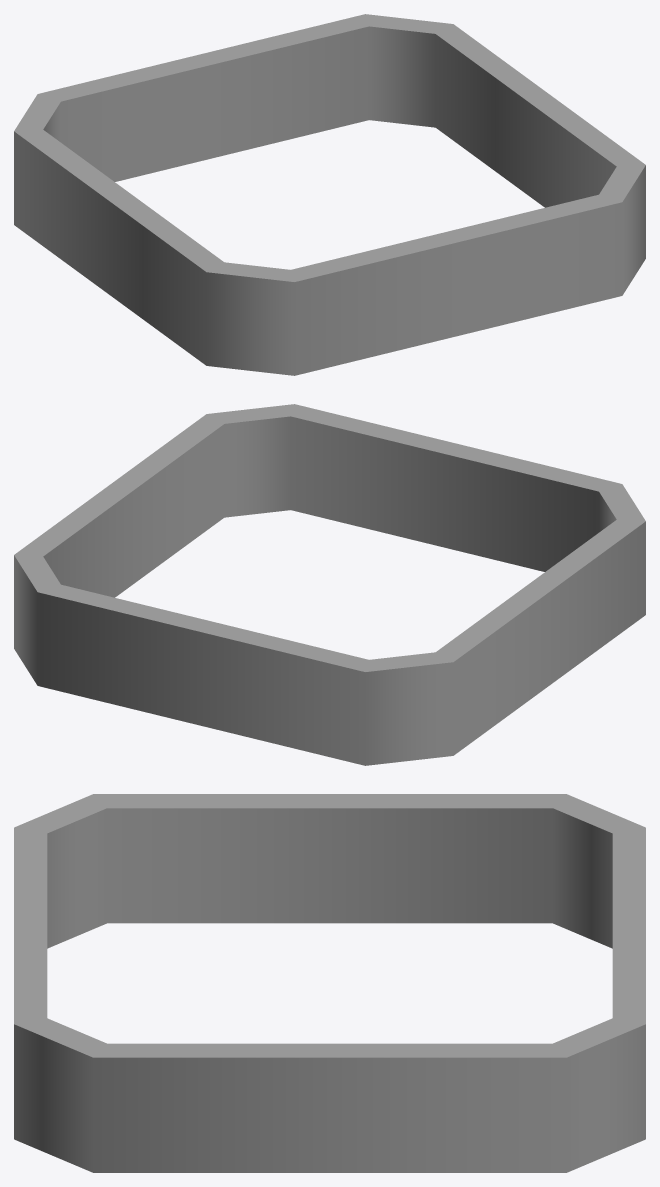
File: BiscuitCutter_Square_01.fbx
The picture shows the model from 3 angles, top to bottom: view 1: azimuth 30°, elevation 25°; view 2: azimuth 150°, elevation 25°; view 3: azimuth 270°, elevation 25°; orthographic projection. The views are drawn at different scales.
Visible parts, largest first — view 1: BiscuitCutter_Square_01; view 2: BiscuitCutter_Square_01; view 3: BiscuitCutter_Square_01.
Part boxes in pixels (x1,y1,x2,y2): BiscuitCutter_Square_01: [14, 14, 645, 375]; BiscuitCutter_Square_01: [14, 404, 645, 765]; BiscuitCutter_Square_01: [14, 794, 645, 1172].
Size of the model in its own units: 0.0626 by 0.0128 by 0.0634.
